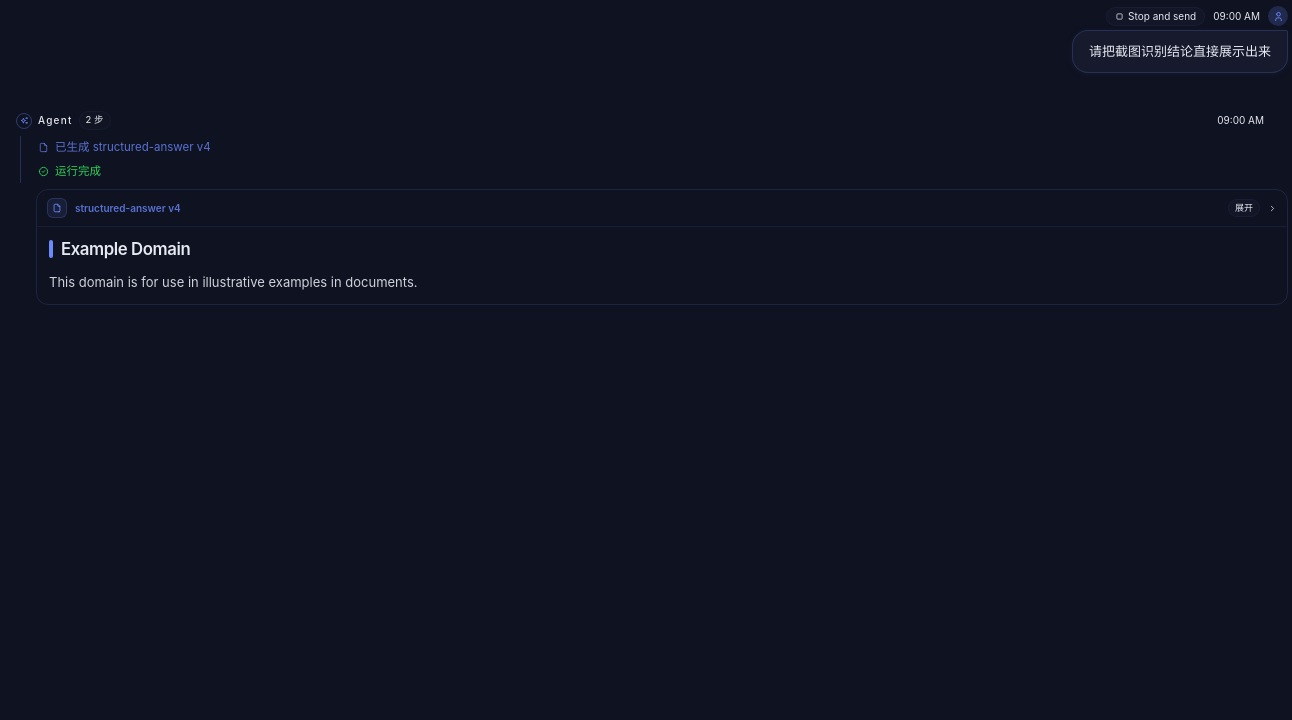
it: RunTimeline › keeps structured-answer markdown visible while collapsed and moves process details behind the toggle
Expected: the heading "Example Domain" is shown, [49,239,190,259]
Expected: the text "先判断页面主结构与标题，再整理可直接引用的正文结论。" is not shown
Click the button "structured-answer v4 展开" at x=128, y=208, box [37,190,1287,226]
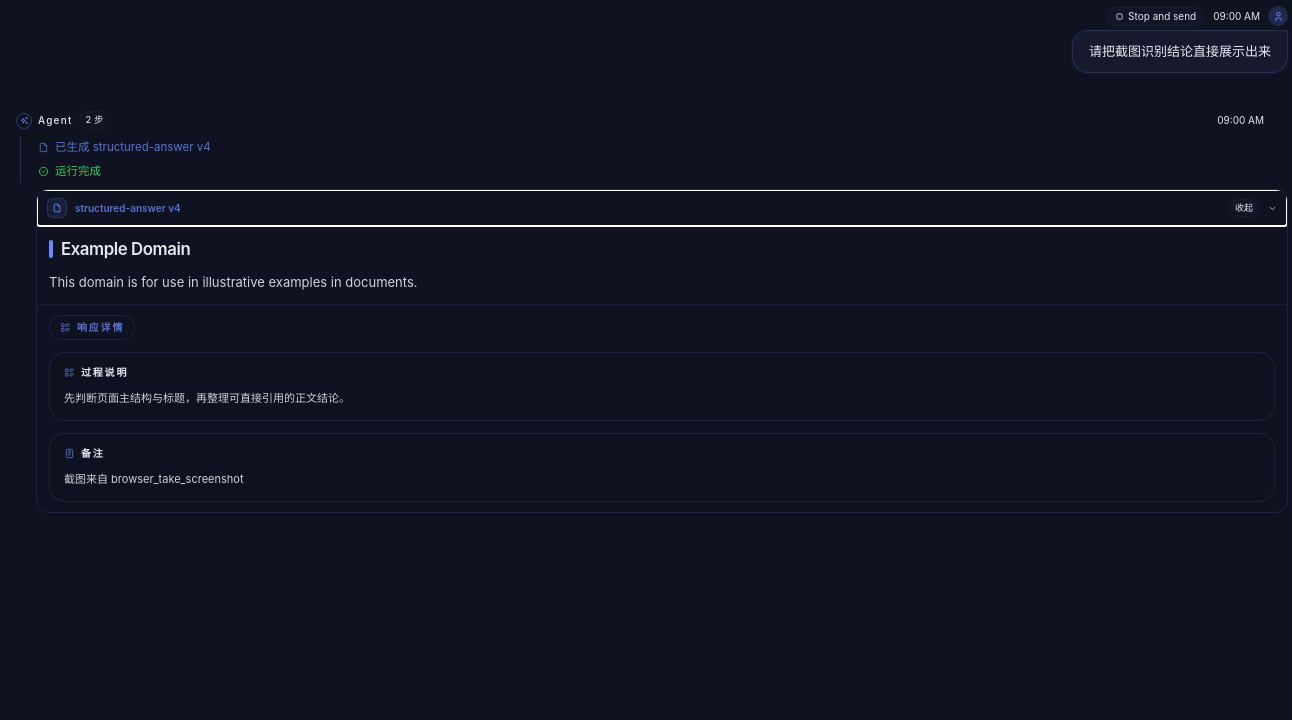
Expected: the text "先判断页面主结构与标题，再整理可直接引用的正文结论。" is shown, [64,391,350,405]
Expected: the text "截图来自 browser_take_screenshot" is shown, [64,472,244,486]
